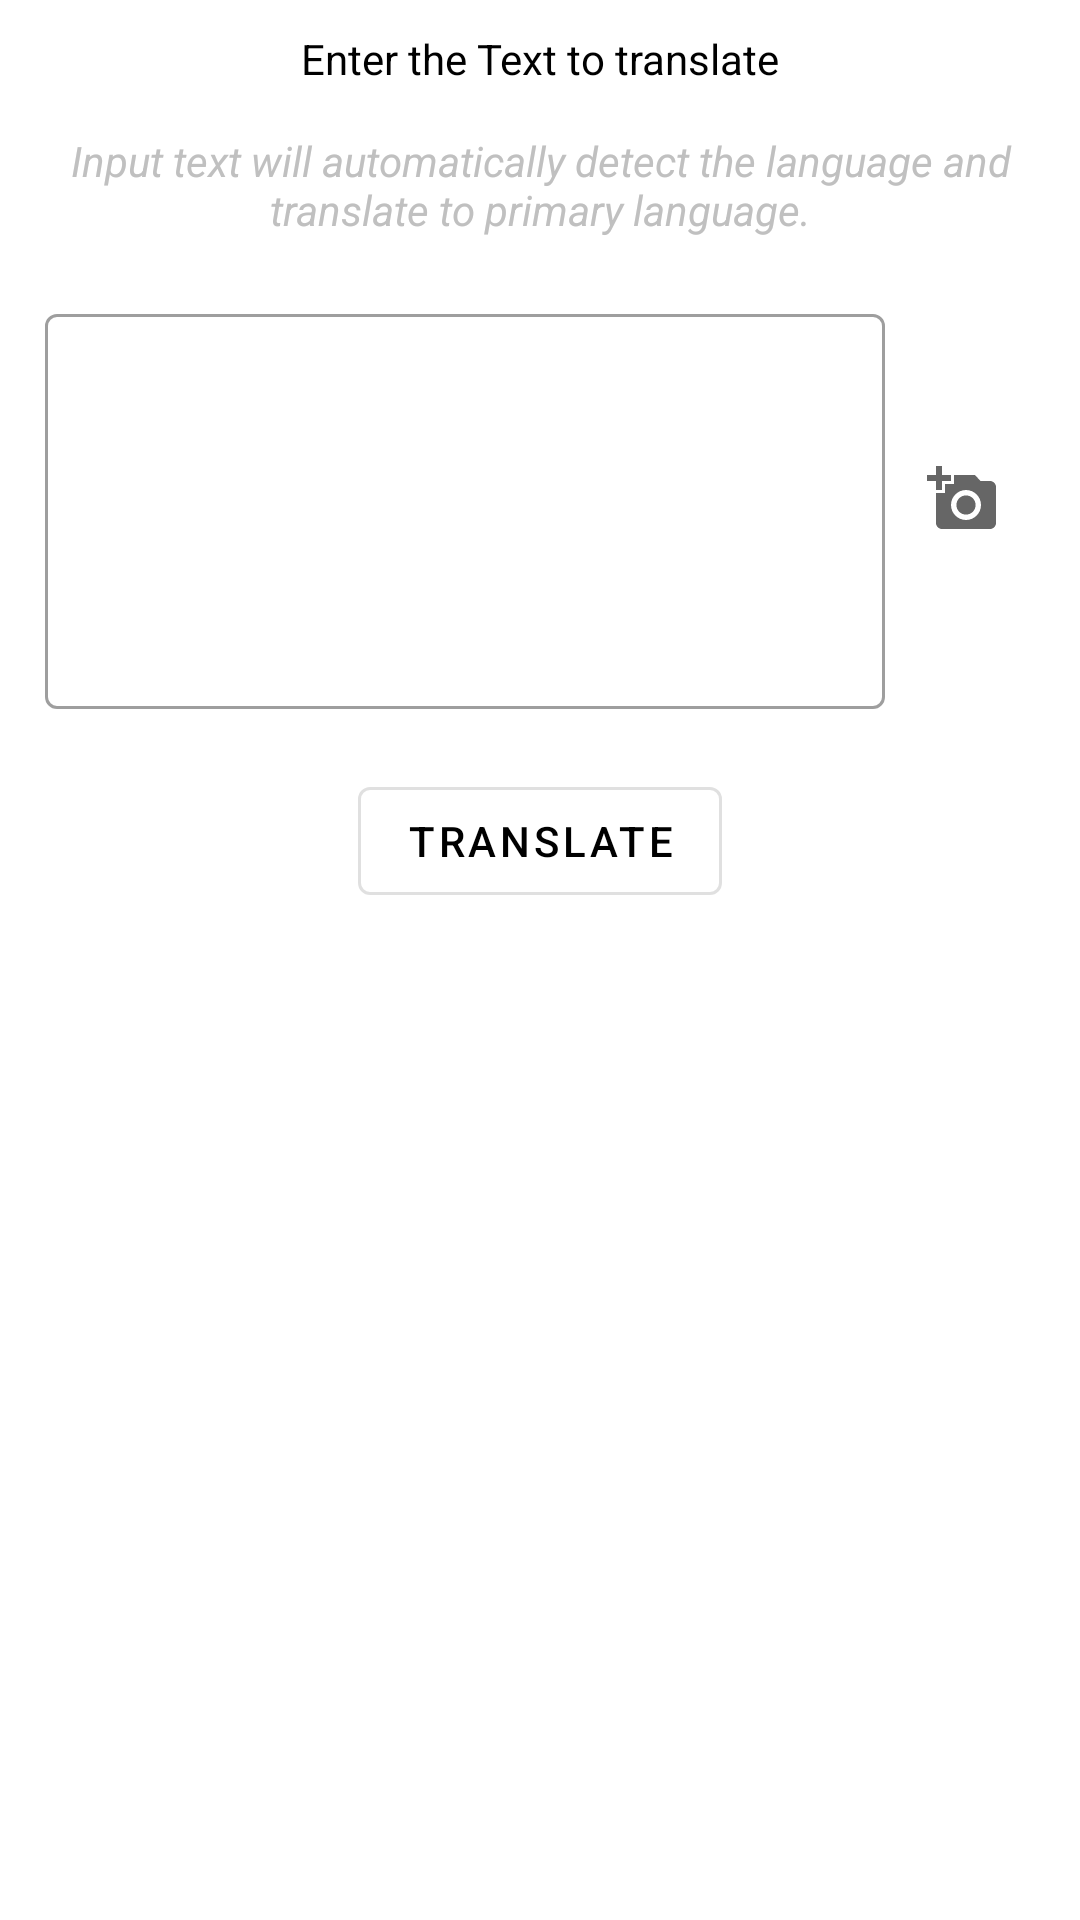

Screen size 1080x1920. Icon name, then its center in pixels as (x=x, y=y):
add photo: (x=961, y=497)
